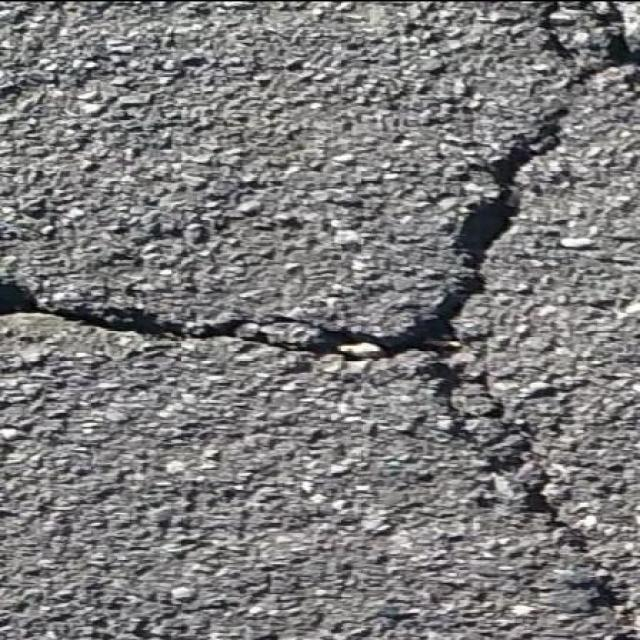Crack: (0, 112, 558, 360), (425, 359, 629, 620), (538, 0, 639, 98), (614, 632, 636, 638)
